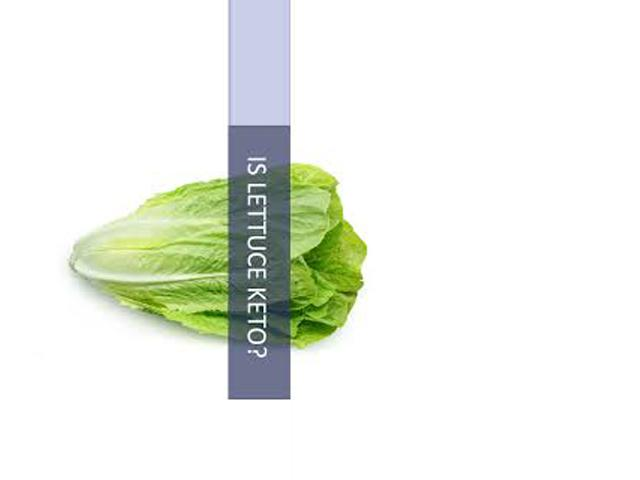lettuce: (42, 155, 364, 362)
